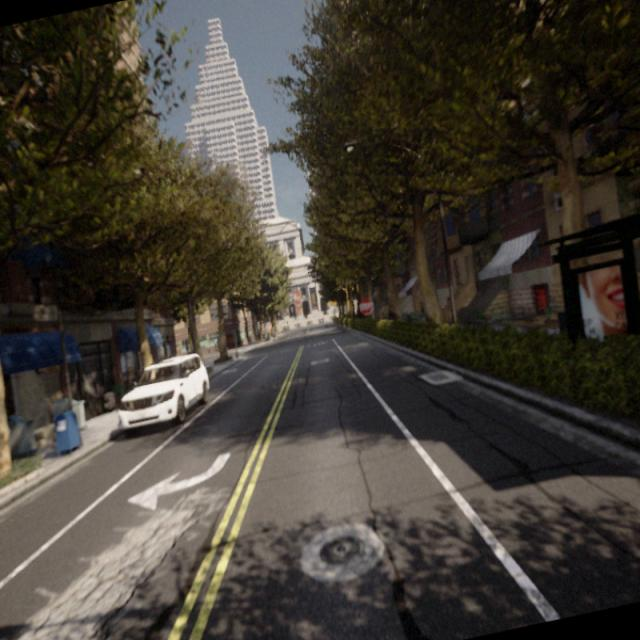stop sign: (354, 291, 377, 320)
